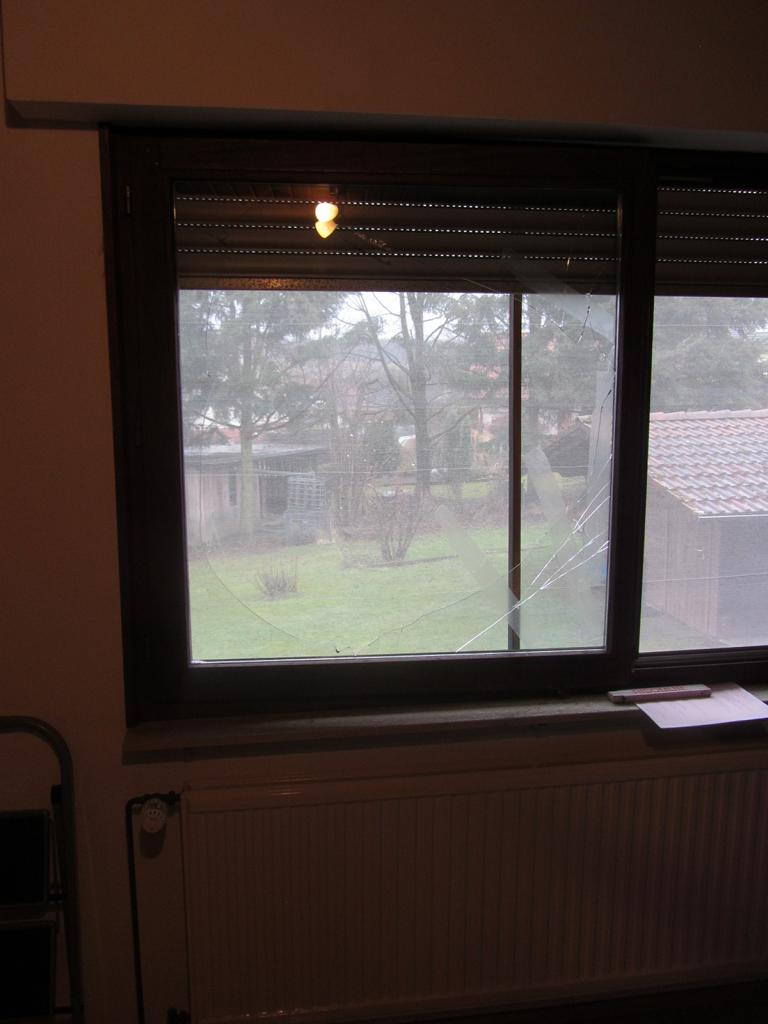windows: (148, 186, 768, 693)
